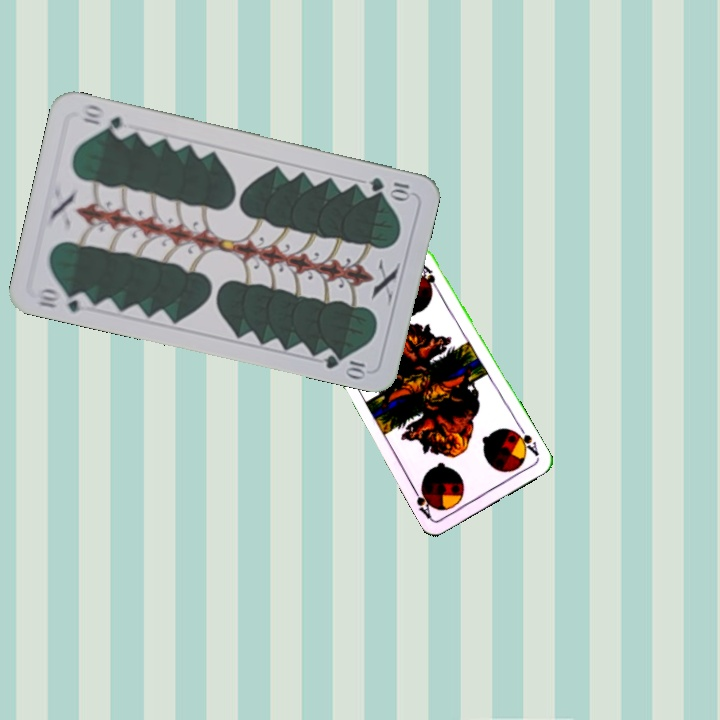G10: (33, 284, 93, 315), (366, 173, 414, 201)
SA: (510, 423, 541, 459)
